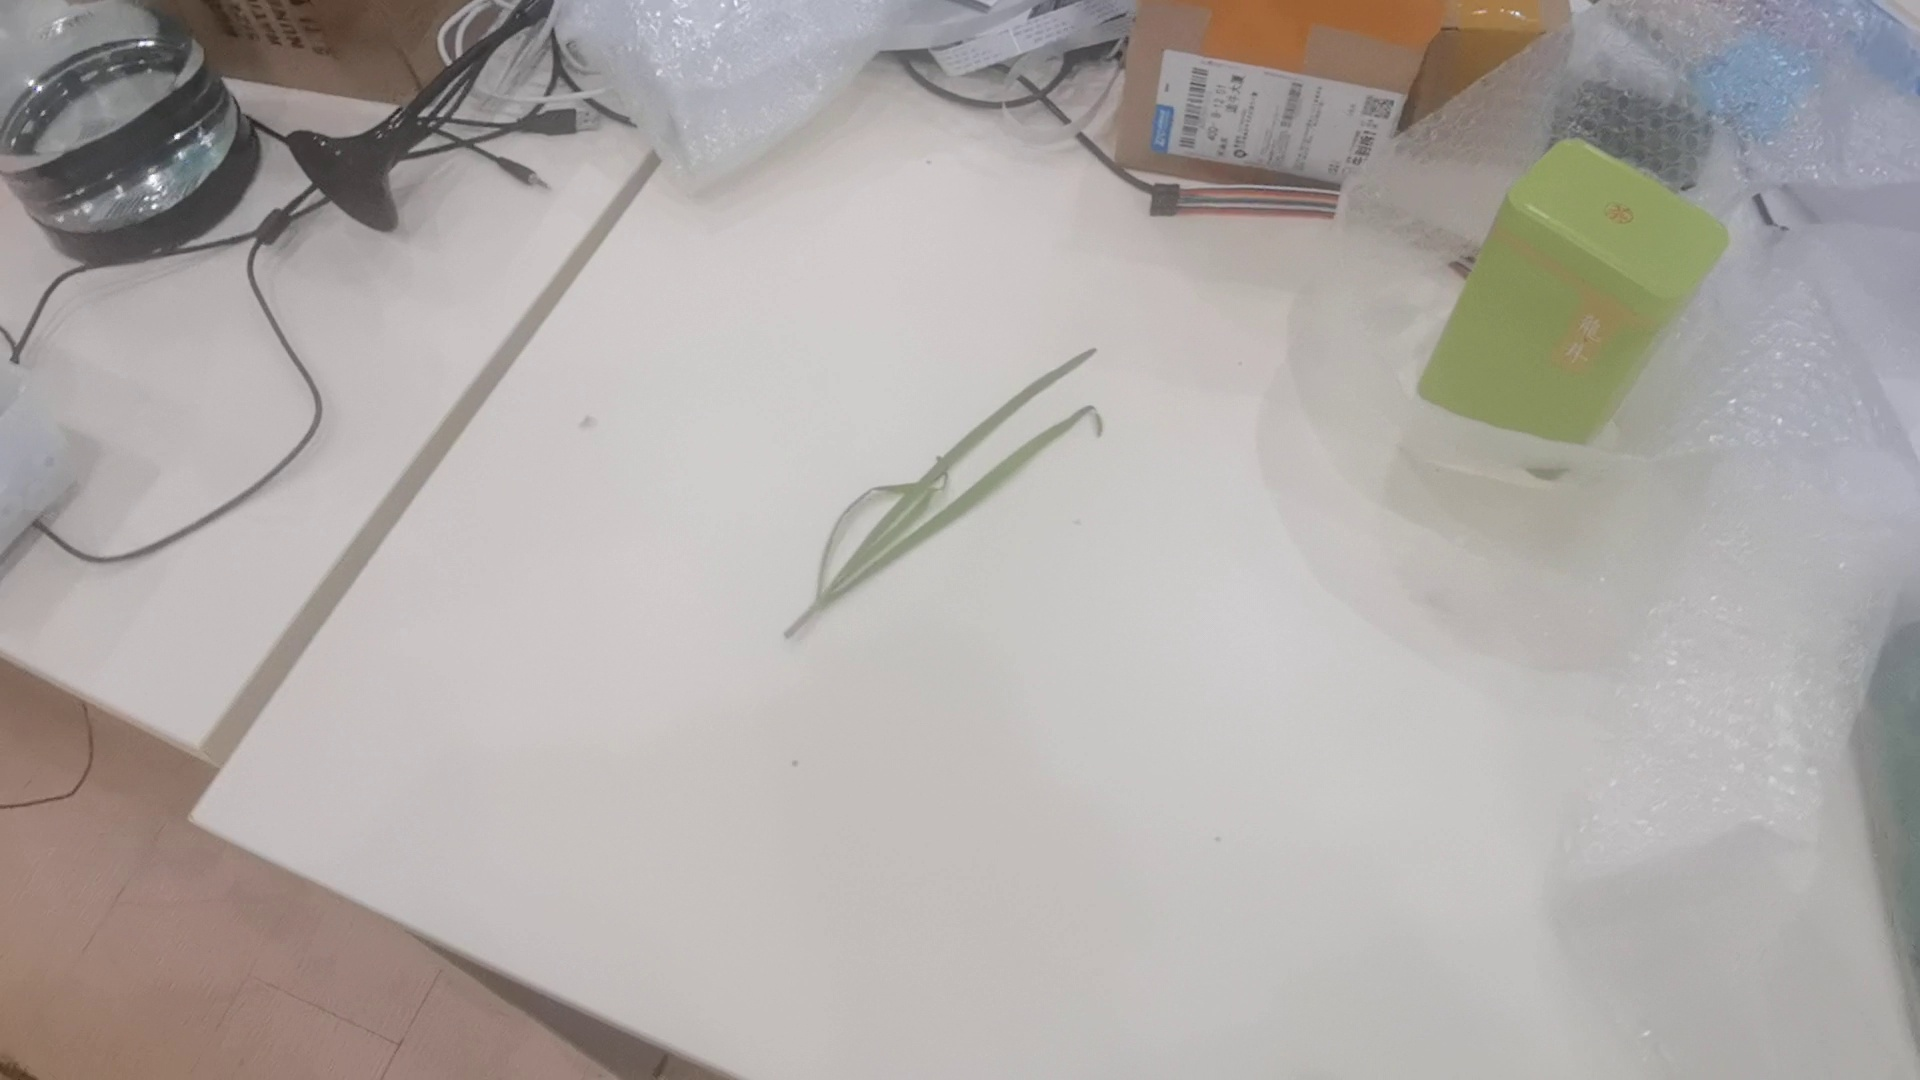chives: (766, 327, 1155, 680)
